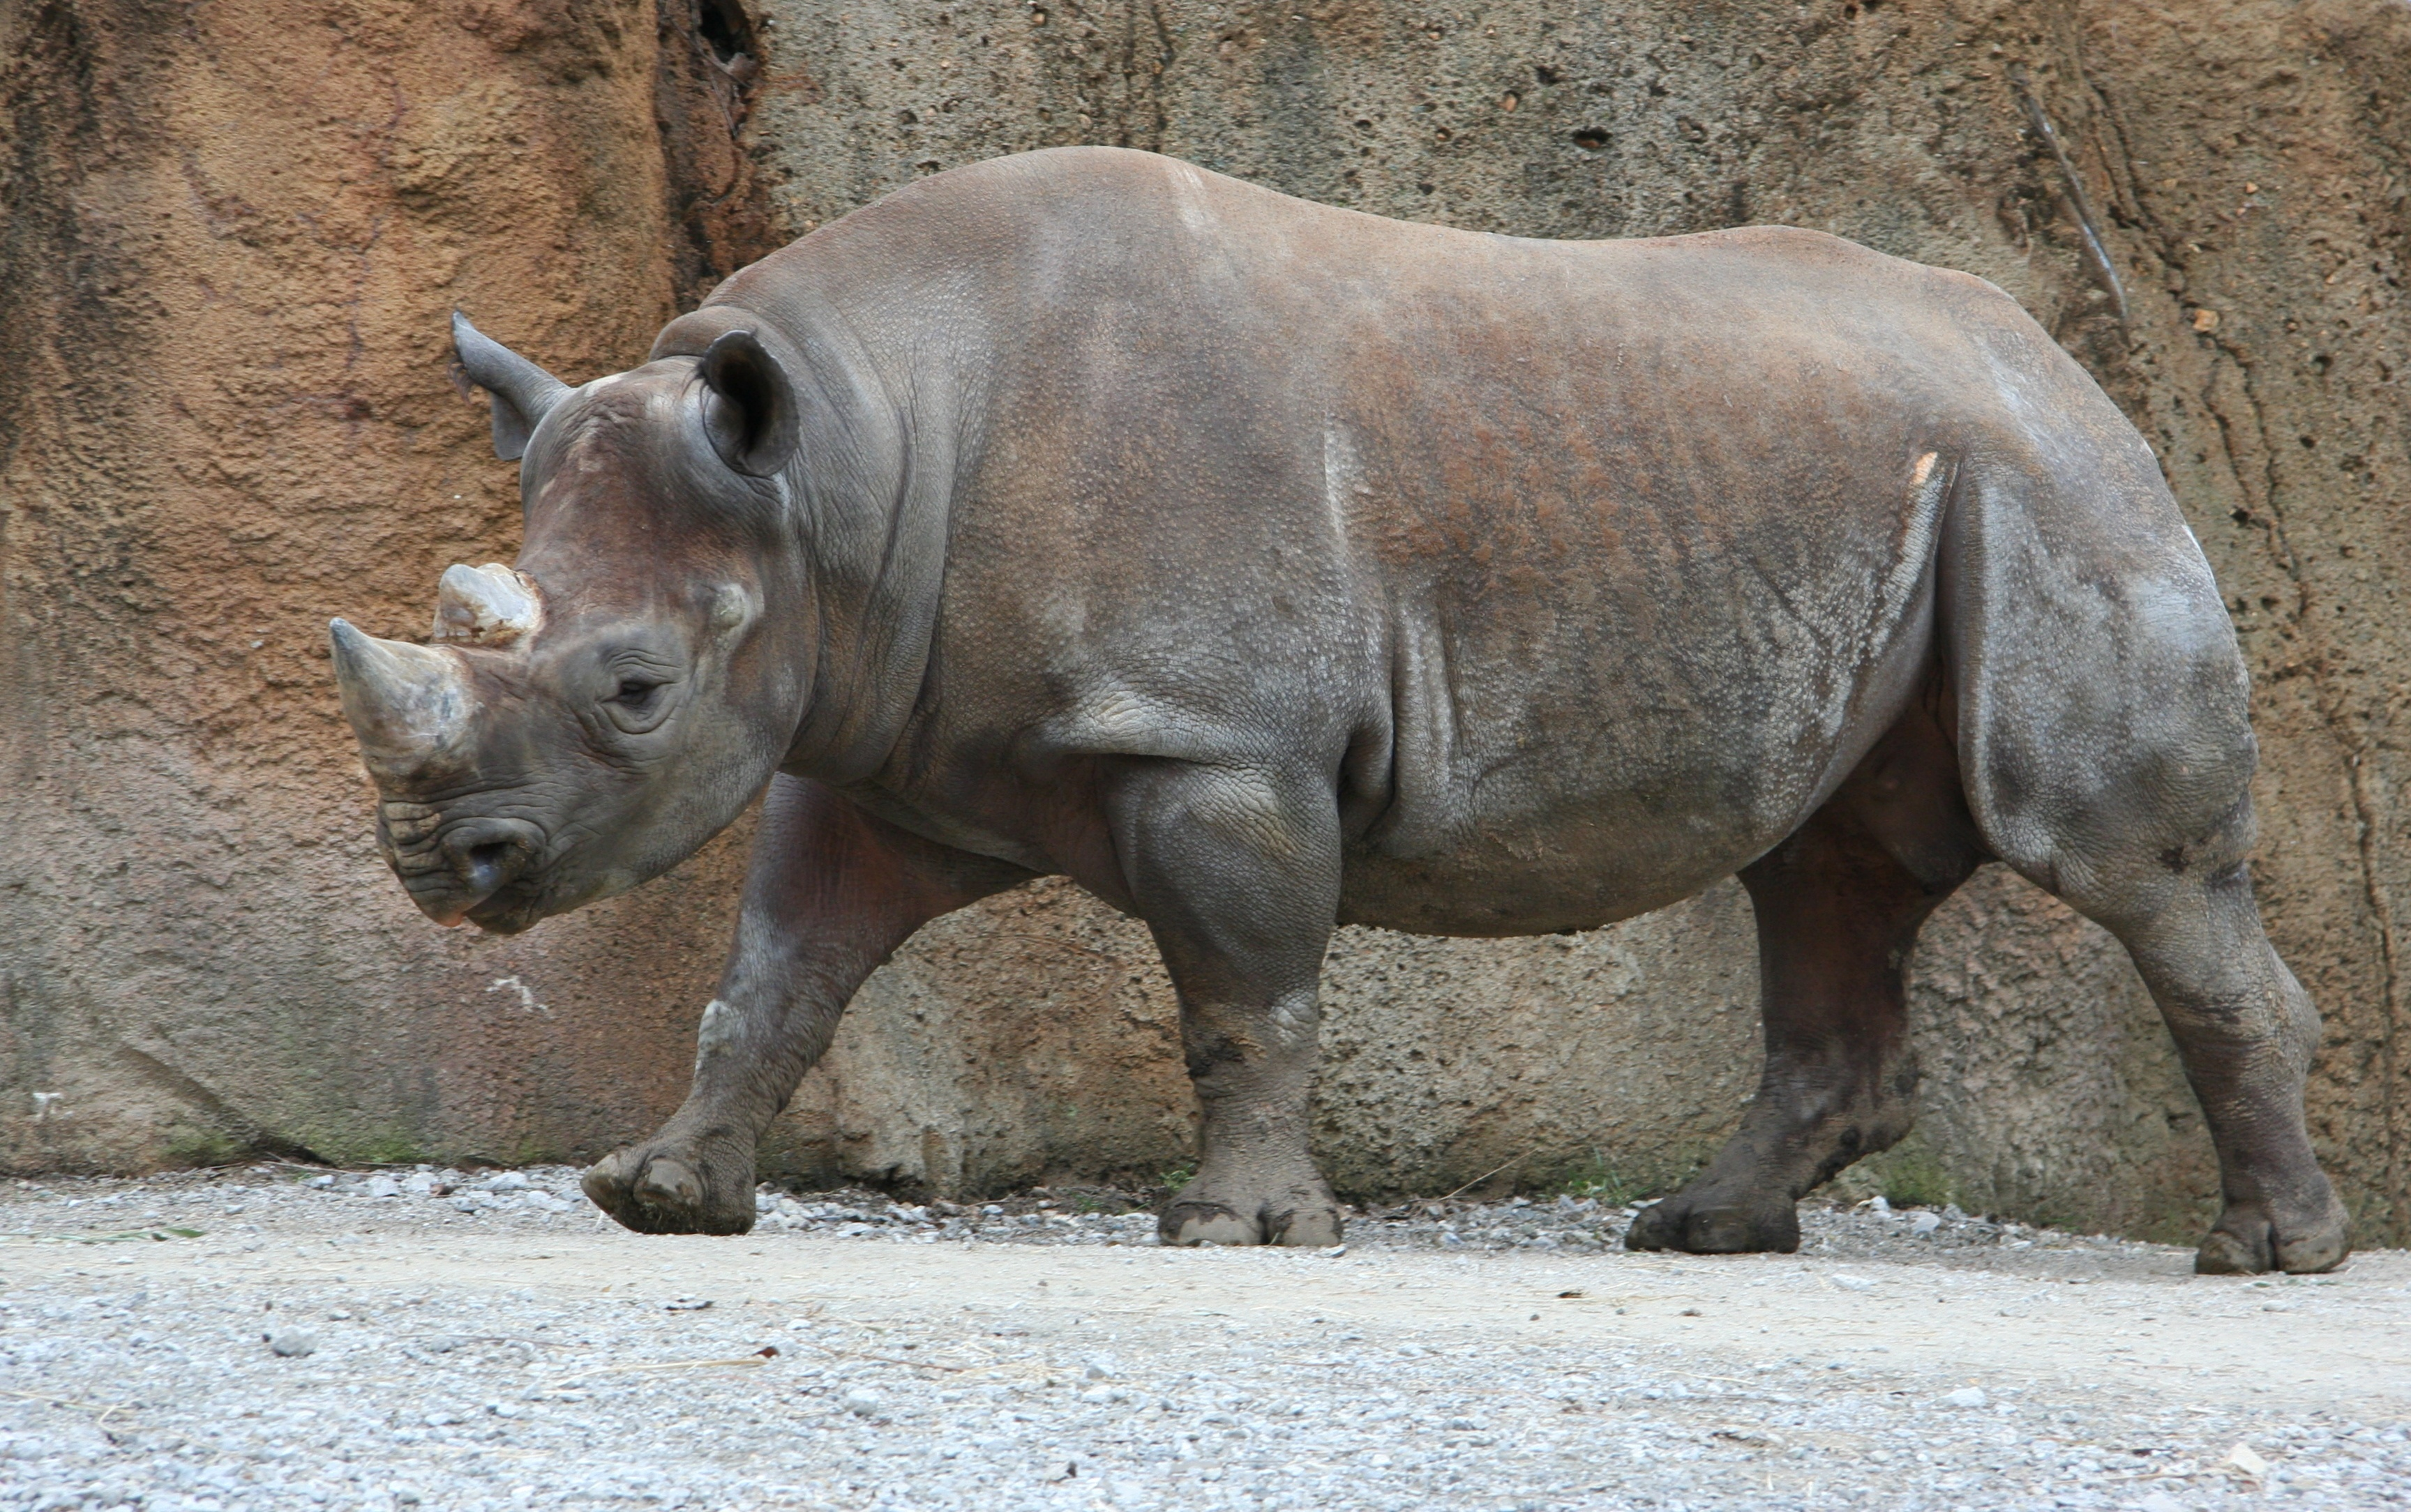rhino: (331, 143, 2334, 1289)
